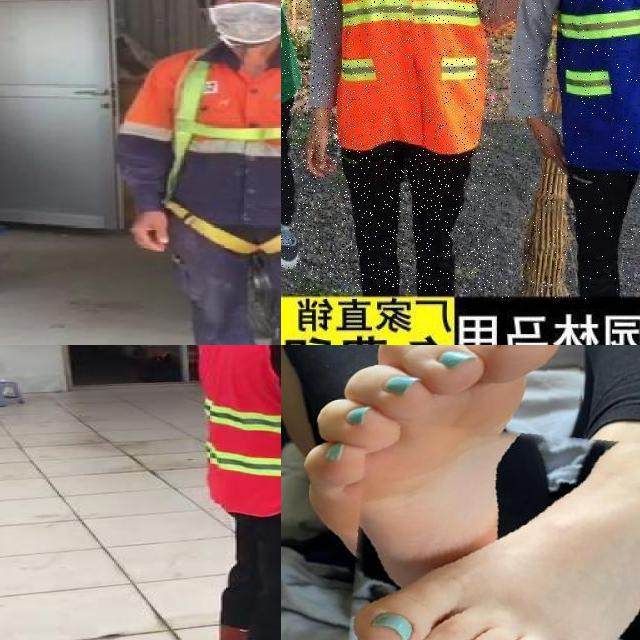Barefoots: (335, 345, 601, 611), (323, 468, 640, 640)
boots: (281, 207, 307, 271)
face_mask: (203, 0, 281, 45)
hand_noglove: (125, 207, 176, 258)
person: (295, 0, 504, 292), (109, 0, 281, 345), (493, 0, 640, 299), (187, 345, 281, 640)
vest: (332, 0, 501, 151), (550, 0, 640, 169), (199, 345, 281, 514)
